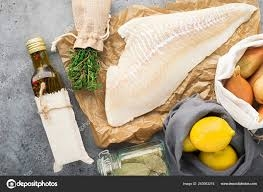glass: (17, 35, 97, 177), (94, 139, 167, 175)
kitchen_waste: (187, 108, 239, 152), (68, 45, 103, 92), (225, 65, 256, 110), (196, 143, 243, 171), (235, 41, 263, 74), (246, 70, 263, 104)
